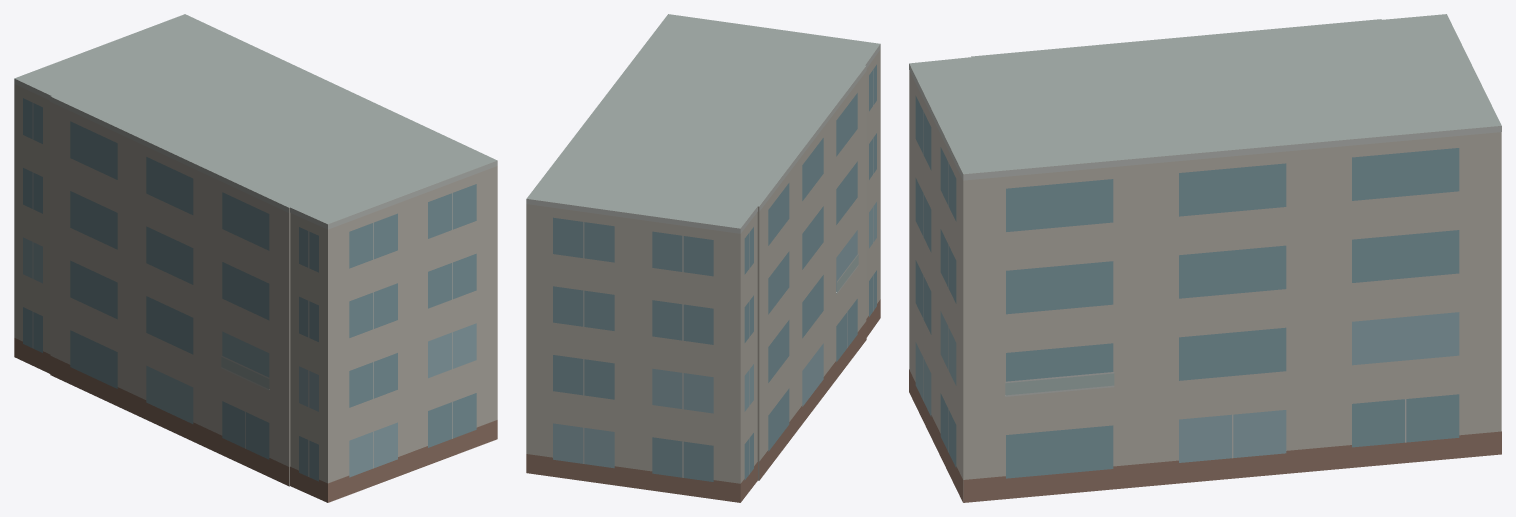
Rendered from survey-upis-32744267.glb.
3 views of the same model, side by side, from view 1: azimuth 30°, elevation 25°; view 2: azimuth 150°, elevation 25°; view 3: azimuth 270°, elevation 25° (orthographic). The views are drawn at different scales.
Visible parts, largest first — view 1: survey-upis-32744267.tmp; view 2: survey-upis-32744267.tmp; view 3: survey-upis-32744267.tmp.
Boxes of the visible parts, x1,y1,x2,y2 form: survey-upis-32744267.tmp: (14, 14, 497, 502); survey-upis-32744267.tmp: (526, 14, 880, 502); survey-upis-32744267.tmp: (909, 14, 1501, 502).
Bounding box in the file's own units: 13.4 × 12.8 × 20.94.
